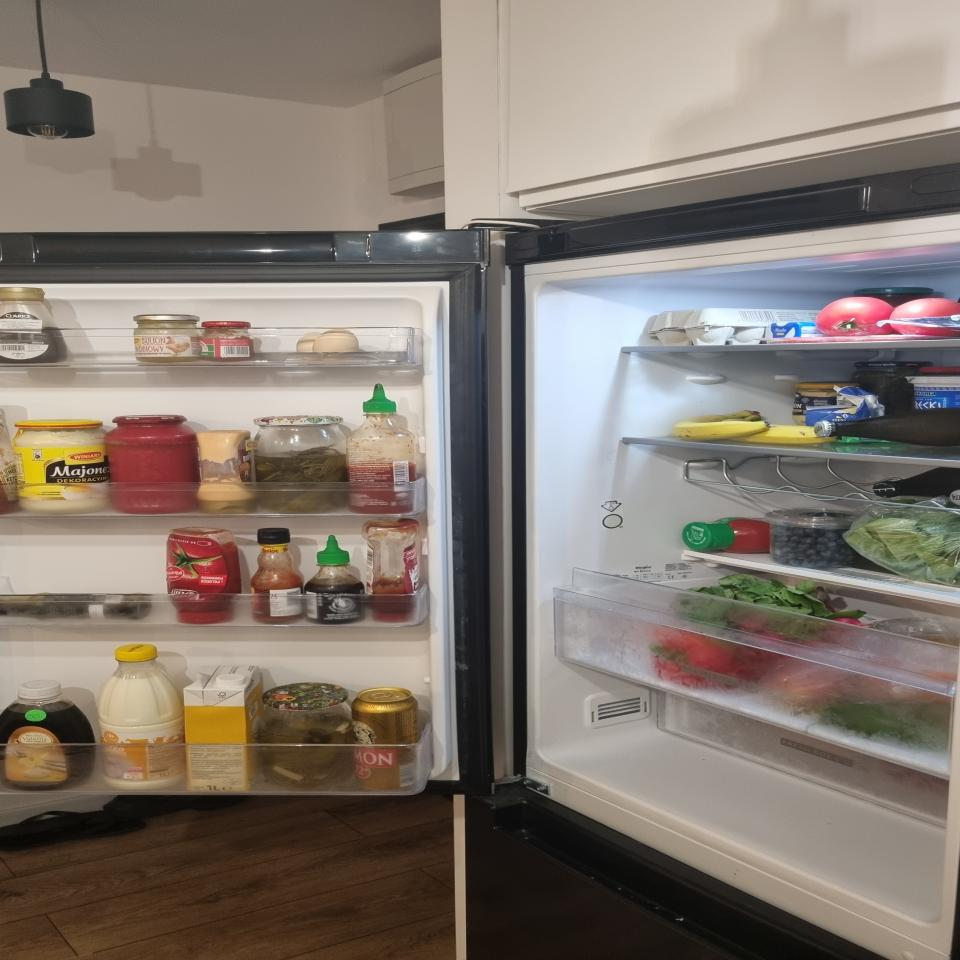Huevos: (644, 308, 824, 346), (295, 328, 359, 361)
Leche: (96, 643, 186, 789), (183, 665, 262, 791)
Lechuga/Endivia: (845, 499, 960, 586)
Mantequilla: (805, 386, 886, 426), (764, 321, 826, 342)
Plátano: (673, 410, 837, 444)
Tomate: (816, 296, 894, 336), (889, 298, 960, 336)
Yogur: (904, 376, 960, 410)
